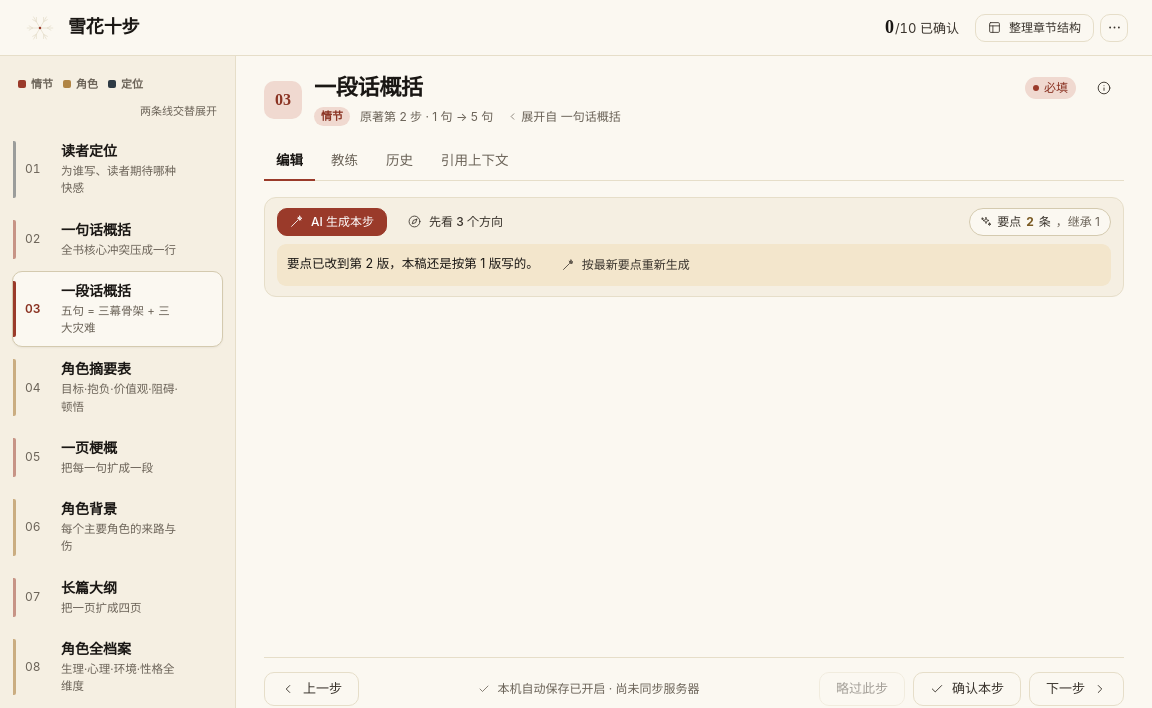
Scenario: 阶段 U · 教练 · 要点 · 方向 · 生成 › 「先看 3 个方向」→ fe-candidates（draft_override，不折叠 context）→ 教练页方向卡 →「按此生成本步」带回合与编号，回包打「已按此生成」
This screenshot has width=1152, height=708.
Click the button with test id "snow-ai-directions": (455, 222) x1=395 y1=208 x2=516 y2=236
(page scrolled)
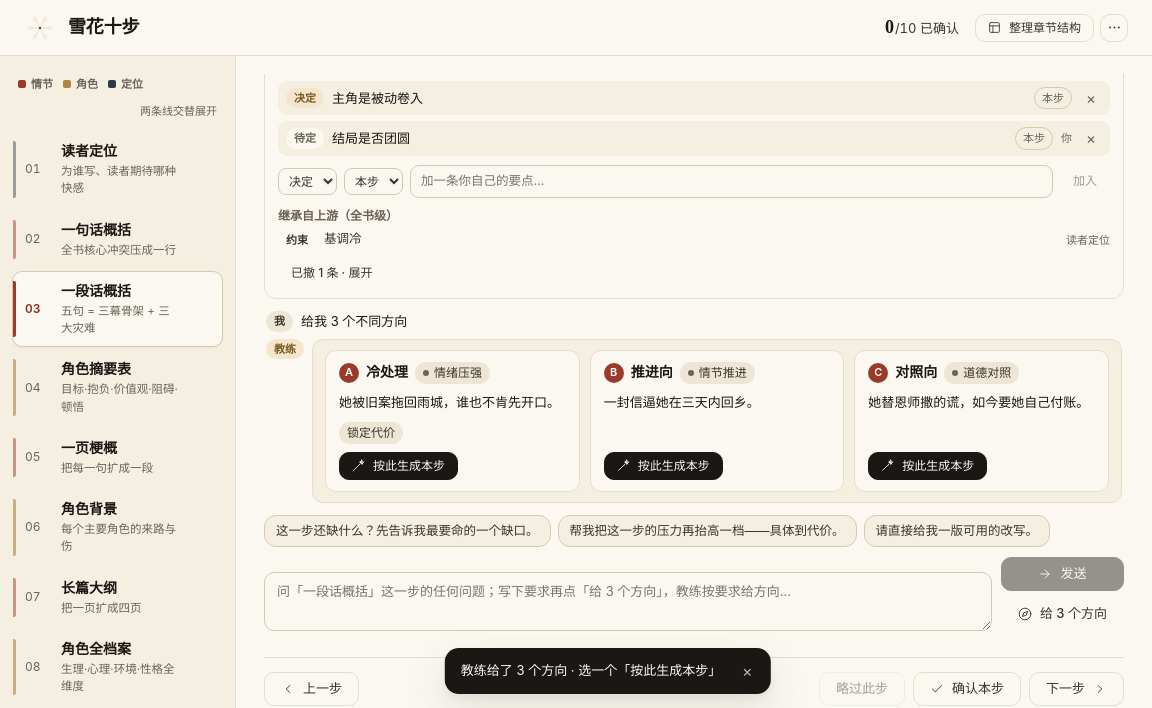
Now the number of elements with test id "snow-direction-card" is 3, box x1=325 y1=350 x2=580 y2=492; x1=590 y1=350 x2=844 y2=492; x1=854 y1=350 x2=1109 y2=492
Now the element with test id "snow-coach-turn-directions" shows "给我 3 个不同方向", box x1=301 y1=313 x2=407 y2=329
Now the element with test id "snow-direction-card" shows "推进向", box x1=631 y1=365 x2=673 y2=380
Click the button with test id "snow-direction-adopt" below "一封信逼她在三天内回乡。": (663, 466) x1=604 y1=452 x2=723 y2=480
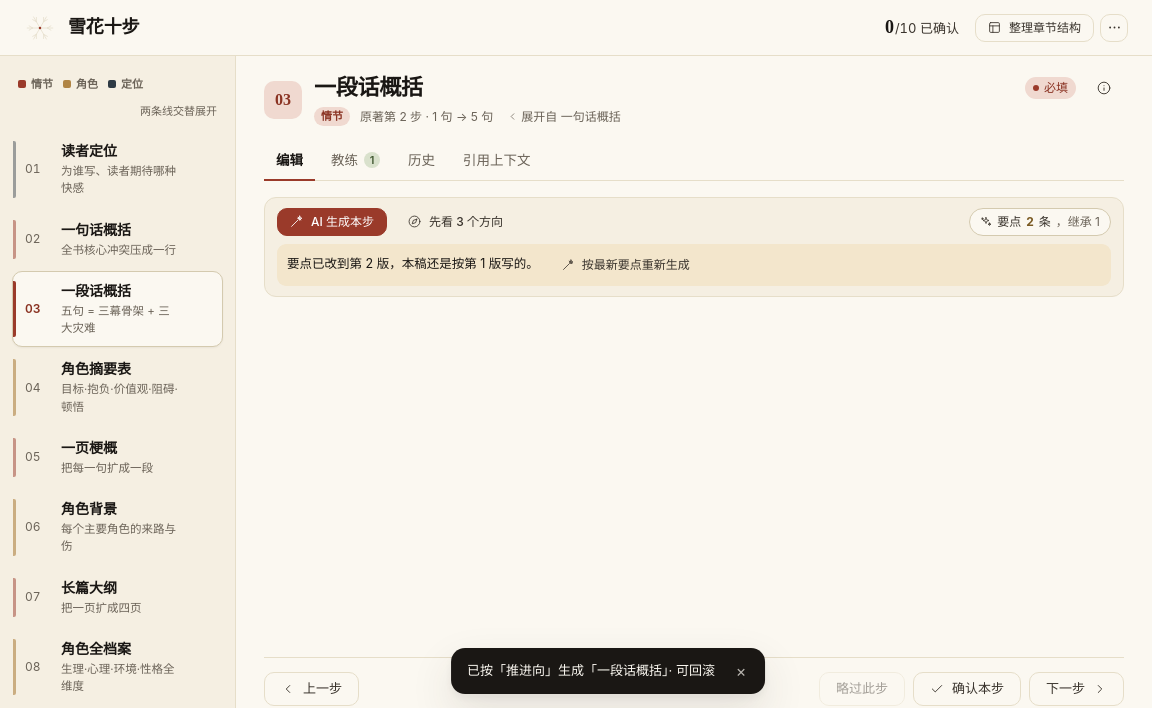
Now the element with test id "snow-aibar" is shown, box x1=264 y1=197 x2=1124 y2=297
Now the tab "教练 1" is shown
Click the tab "教练 1": (356, 161) x1=319 y1=140 x2=392 y2=181
(page scrolled)
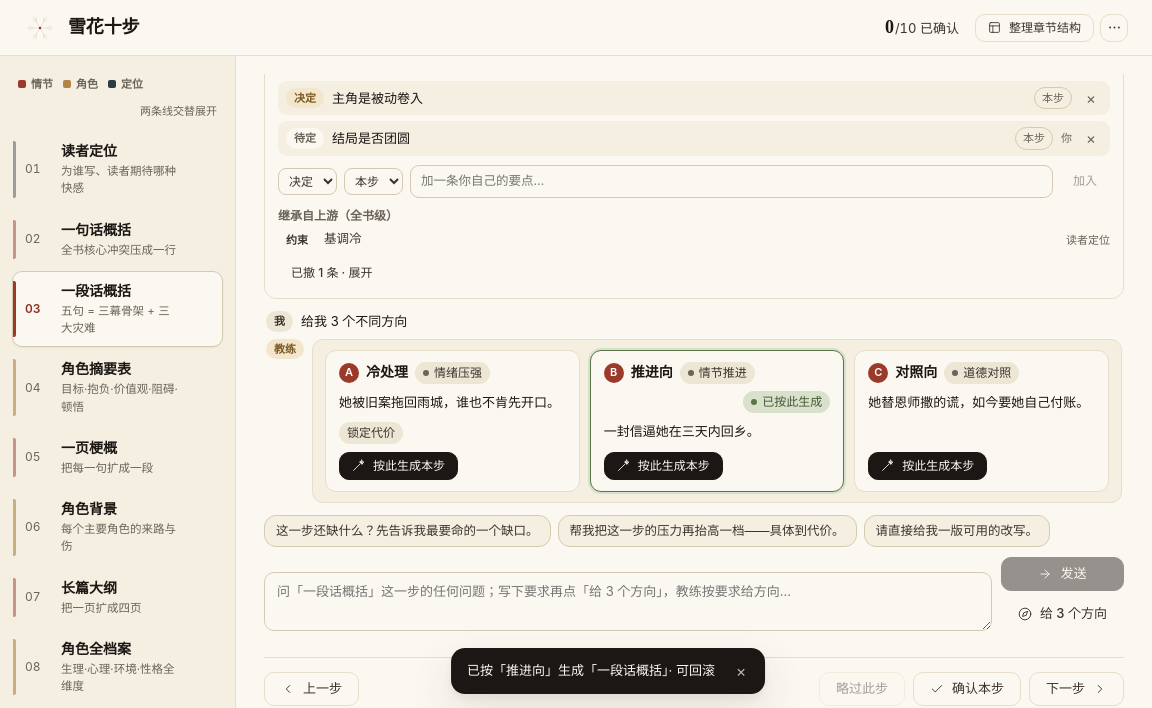
Expected: the element with test id "snow-direction-card" does not show "已按此生成"
Now the element with test id "snow-brief-card" is shown, box x1=264 y1=74 x2=1124 y2=299
Now the element with test id "snow-direction-card" shows "已按此生成", box x1=762 y1=394 x2=822 y2=408
